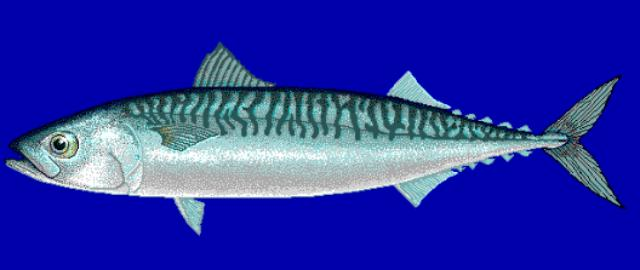Mulut: (3, 130, 45, 188)
Sirip Anal: (396, 164, 456, 214)
Sirip Dada: (147, 118, 220, 148)
Sirip Ekor: (541, 63, 631, 213)
Sirip Perut: (170, 188, 210, 240)
Sirip Punggung: (190, 38, 452, 112)
